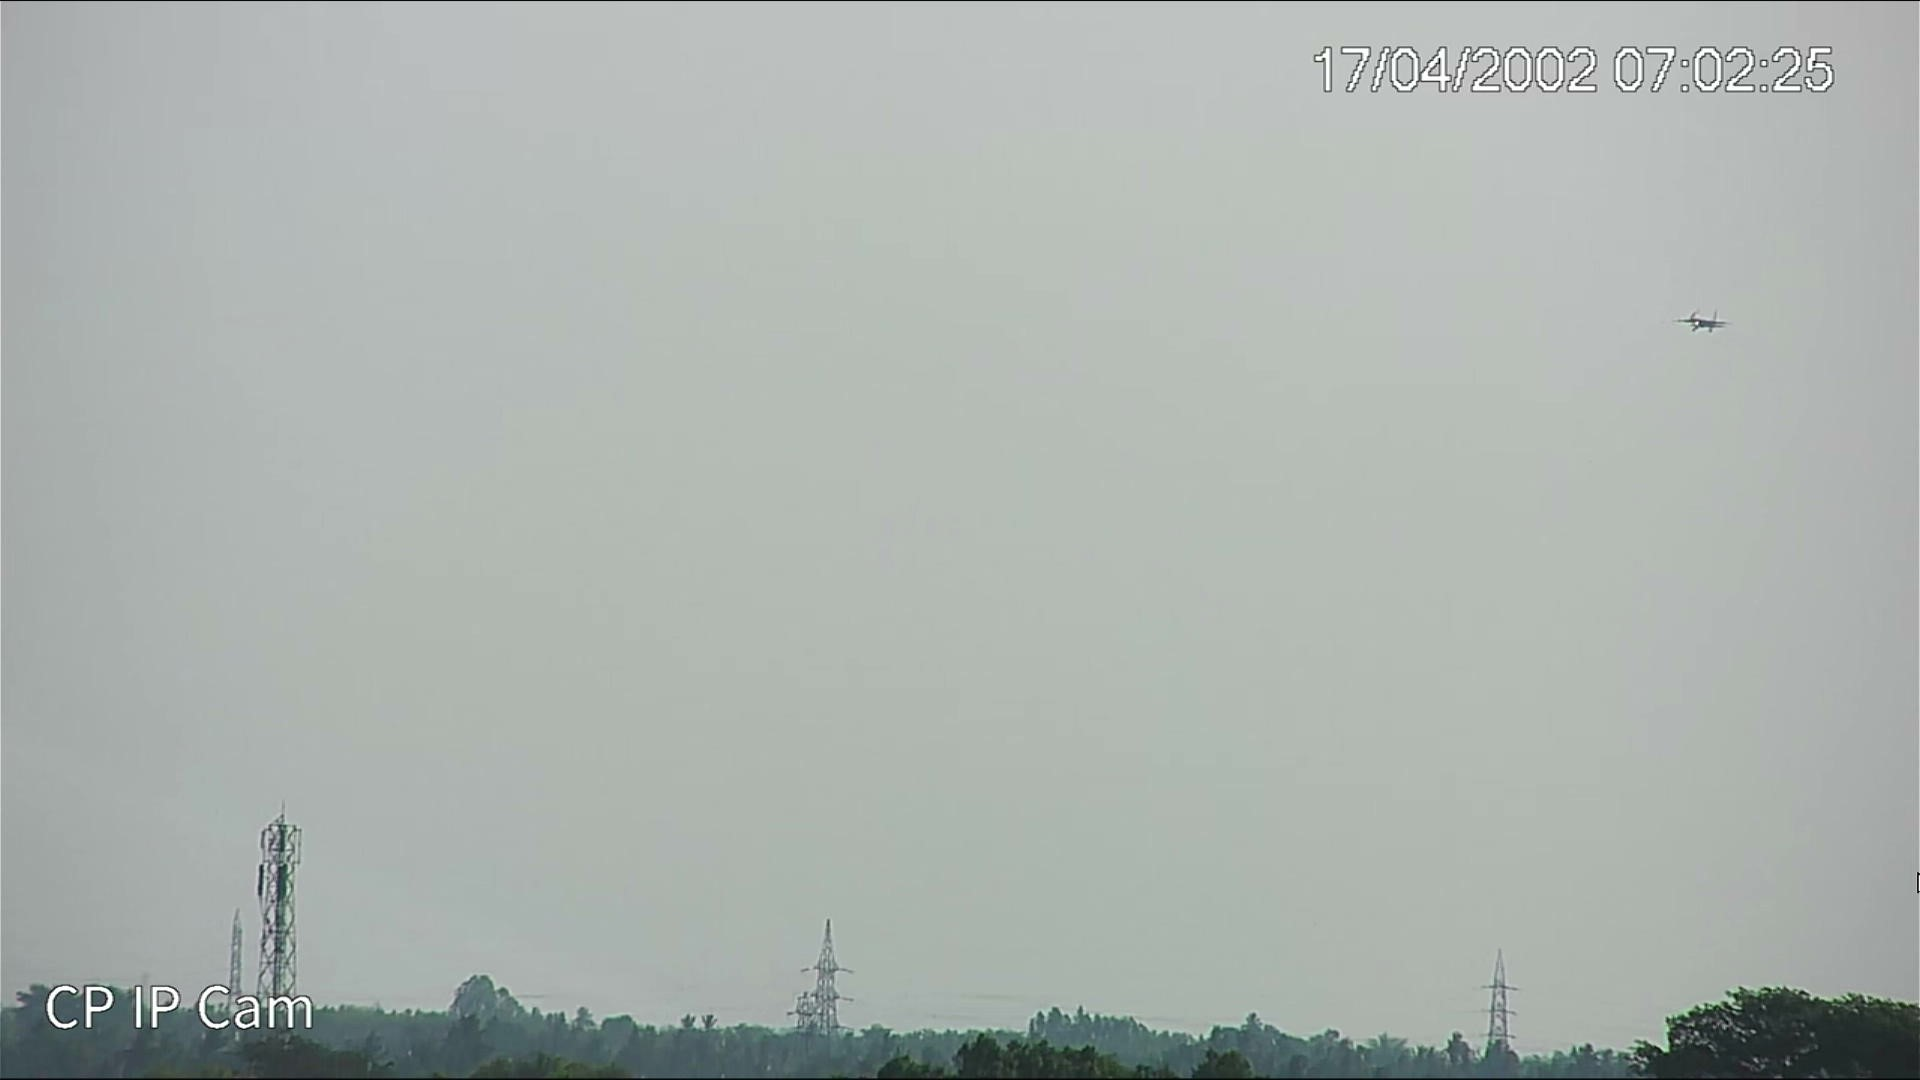SU_30: (1676, 310, 1725, 334)
